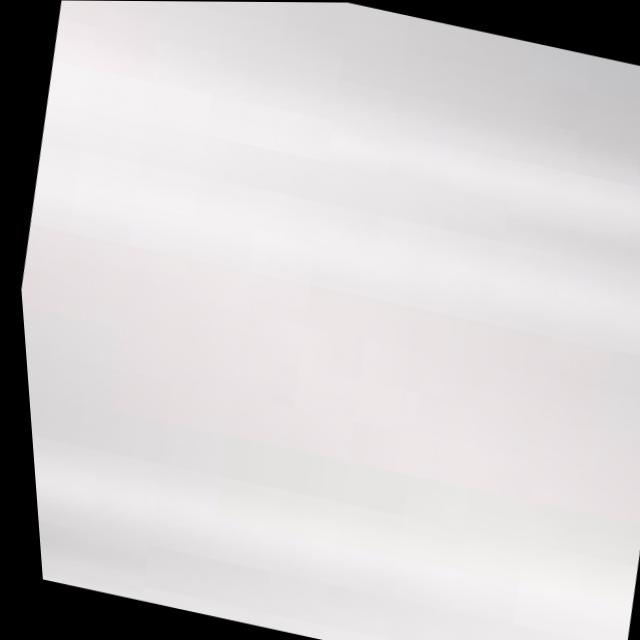metal-plates: (18, 1, 640, 640)
